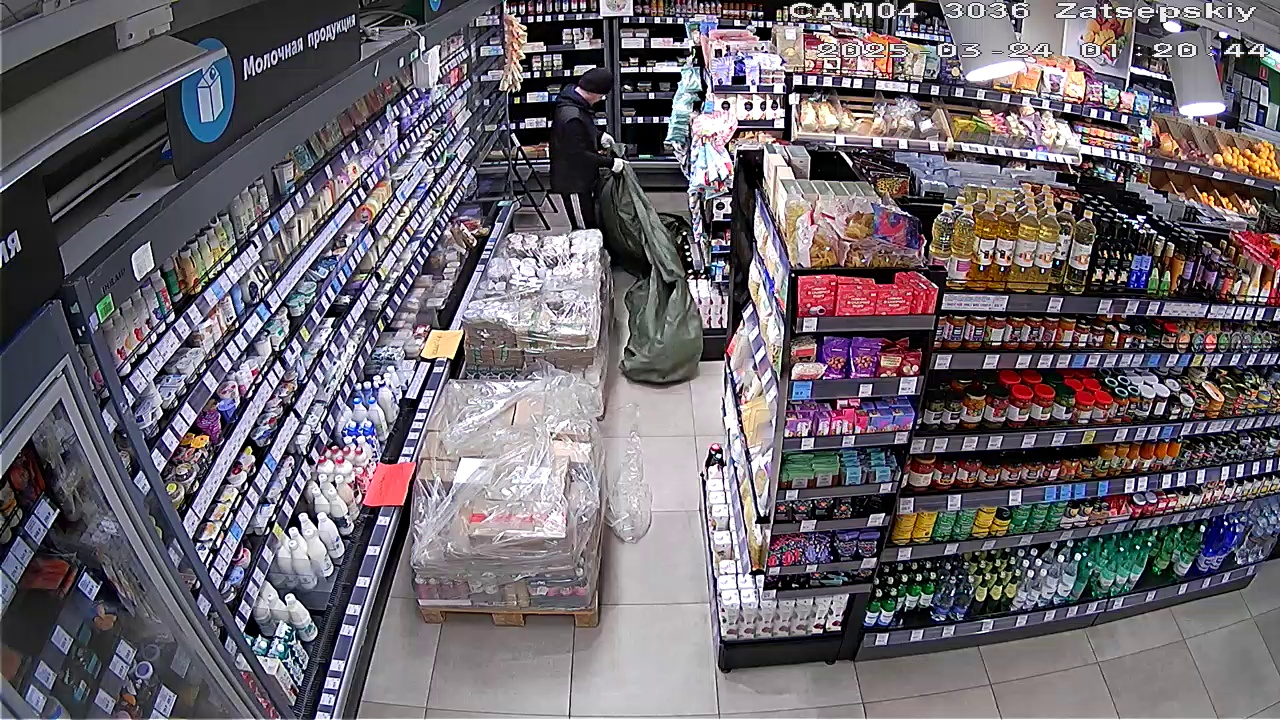Human: (550, 68, 619, 230)
pallet: (417, 374, 600, 626), (461, 236, 610, 382)
